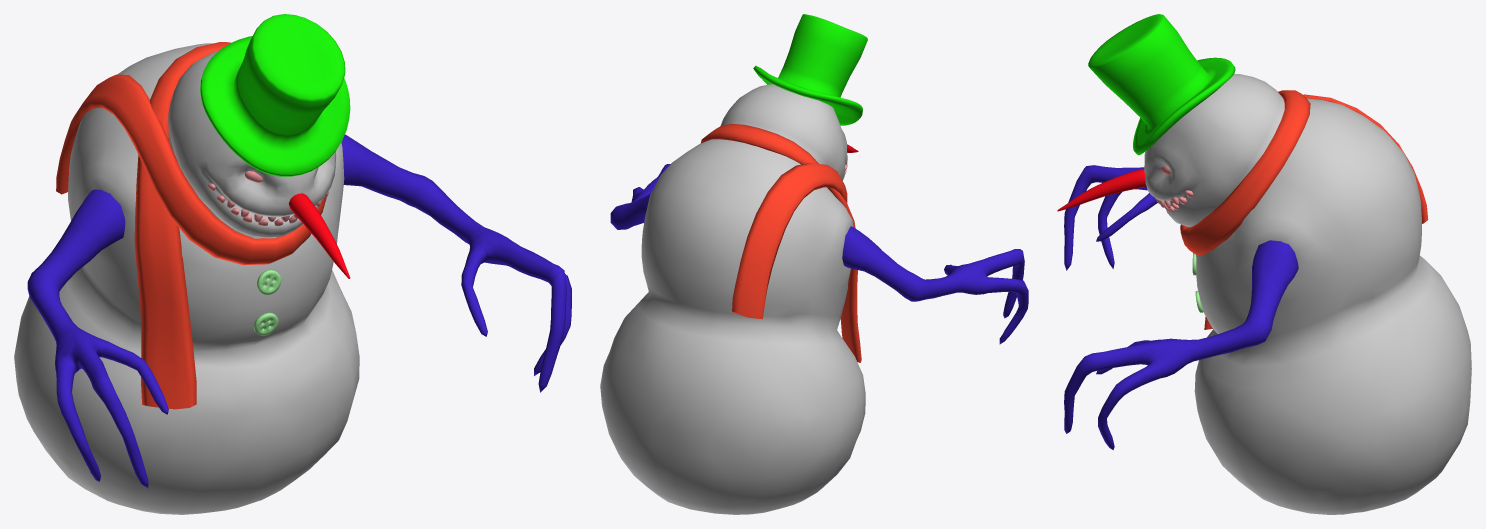
Rendered from SnowmanOBJ.obj.
The picture shows the model from 3 angles, left to right: view 1: azimuth 30°, elevation 25°; view 2: azimuth 150°, elevation 25°; view 3: azimuth 270°, elevation 25°; orthographic projection. The views are drawn at different scales.
Visible parts, largest first — view 1: Snowman; view 2: Snowman; view 3: Snowman.
Part boxes in pixels (x1,y1,x2,y2): Snowman: (14,14,571,514); Snowman: (600,14,1028,514); Snowman: (1057,14,1471,514).
Bounding box in the file's own units: 164 × 167 × 135.
